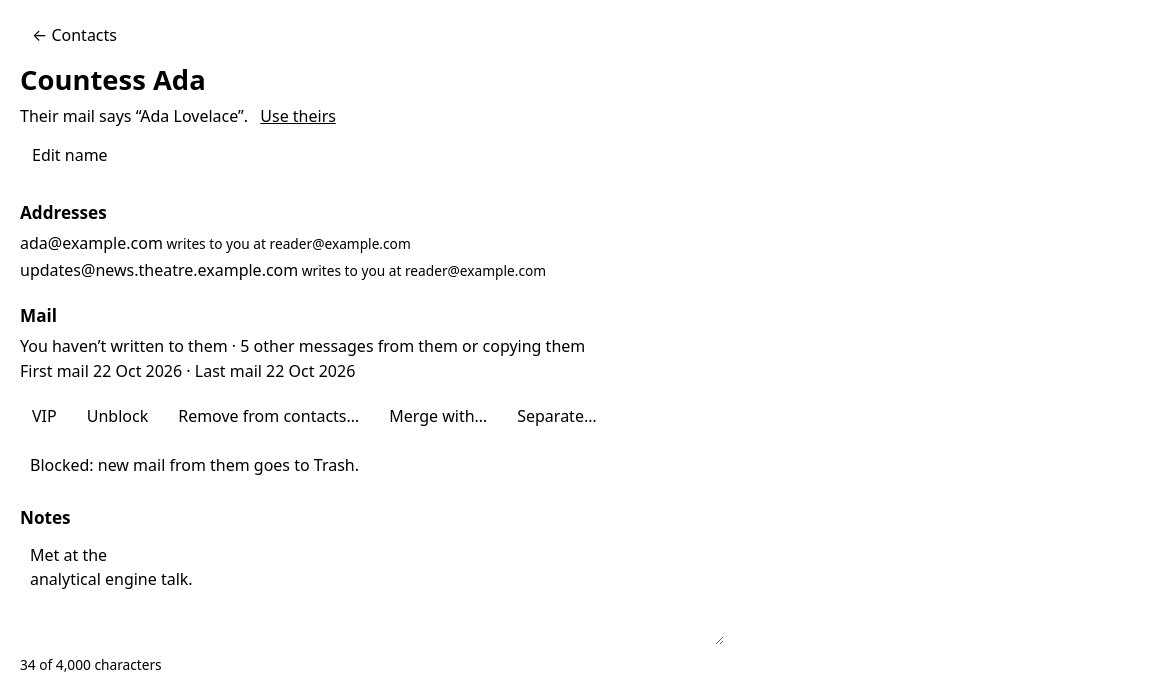
Test: a contact's page (#816) › after a partial Separate, says nothing changed back
Click the button "Separate…".
click(557, 417)  # box [505,398,609,436]
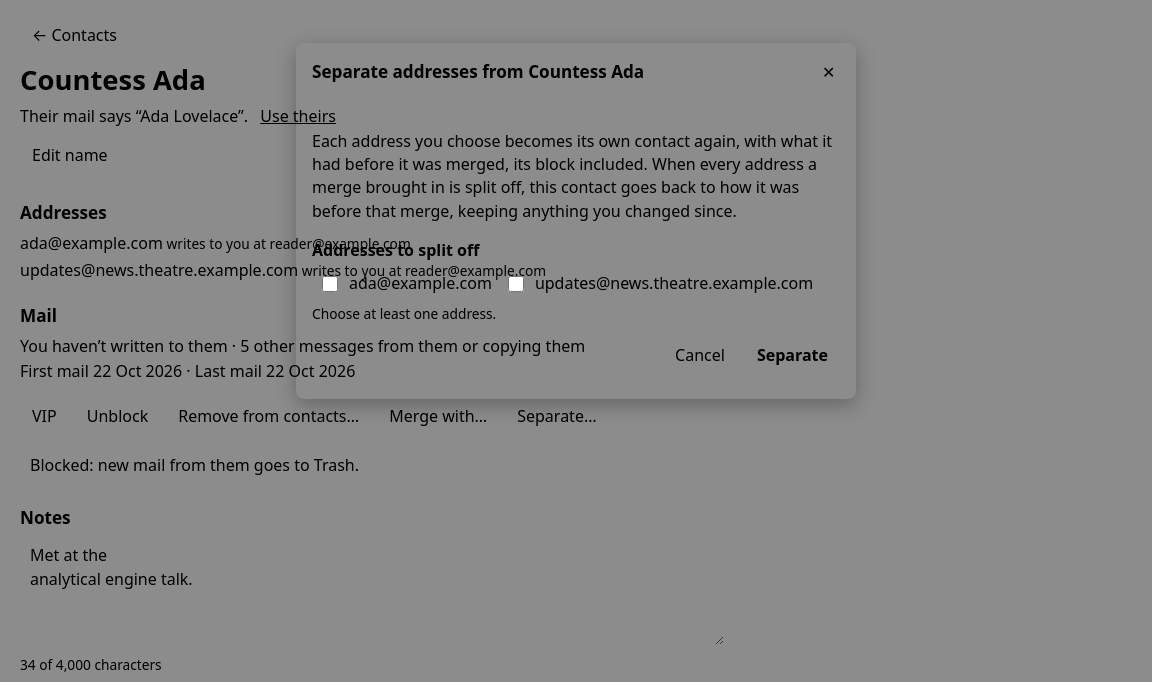
Click the label "updates@news.theatre.example.com".
click(659, 284)  # box [498,266,819,301]
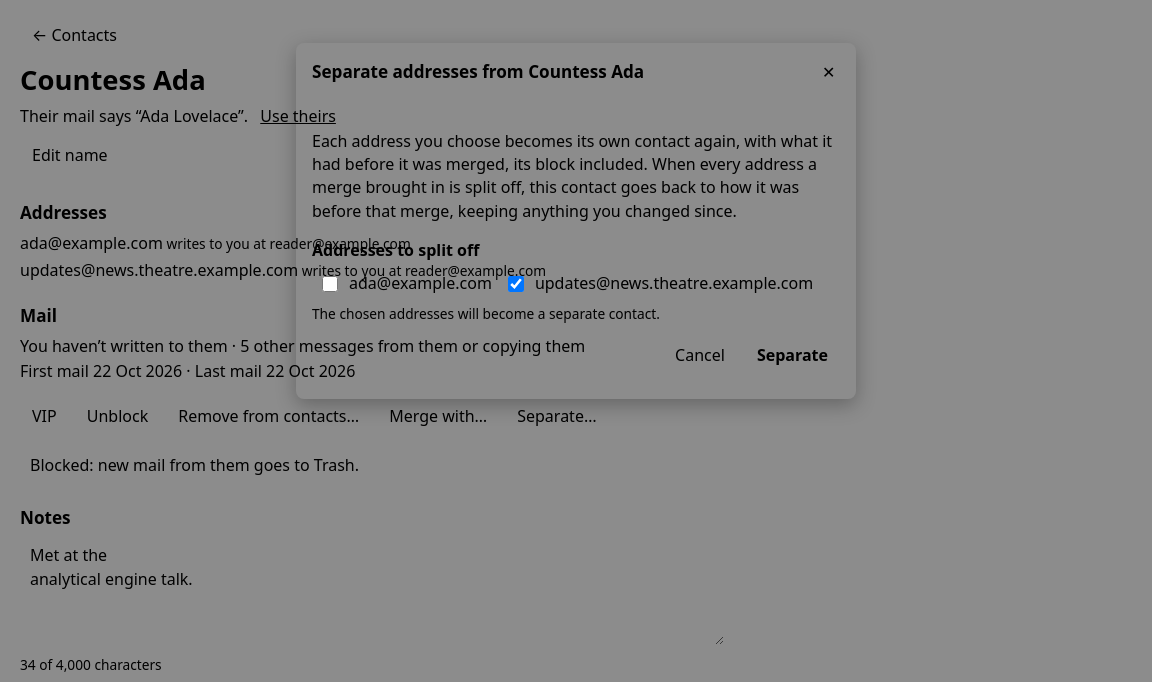
Click the button "Separate".
click(792, 355)  # box [745,336,840,375]
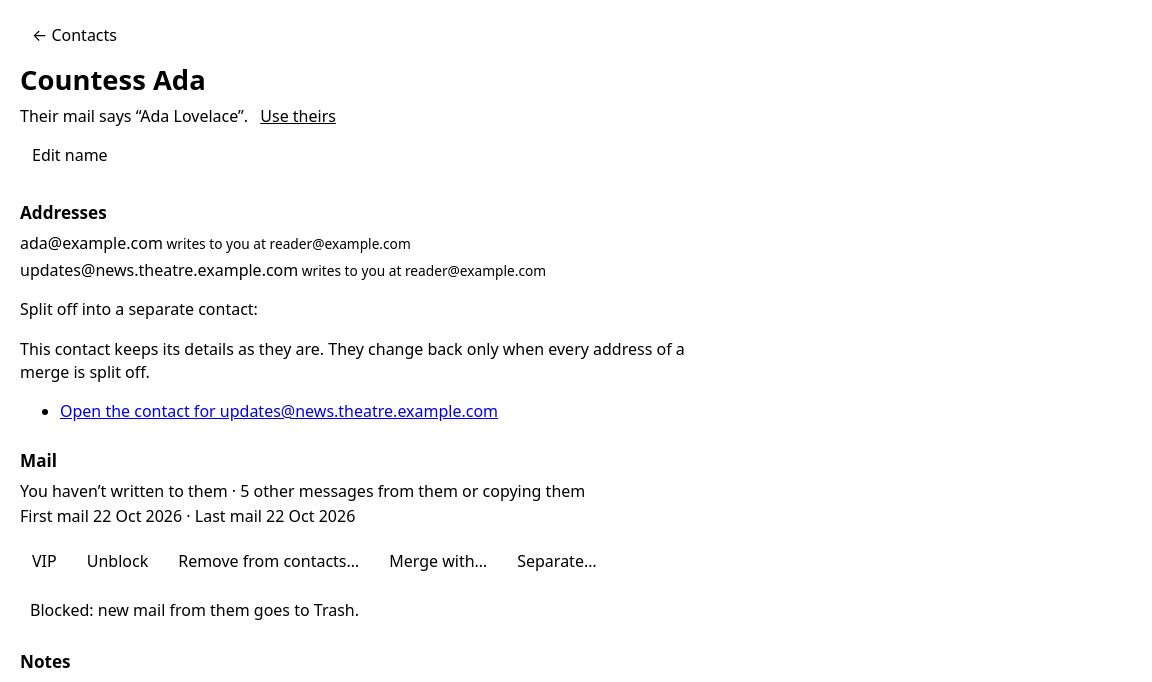
Result: the message with class "contact-separated" shows "This contact keeps its details as they are." at [20,338,685,383]
